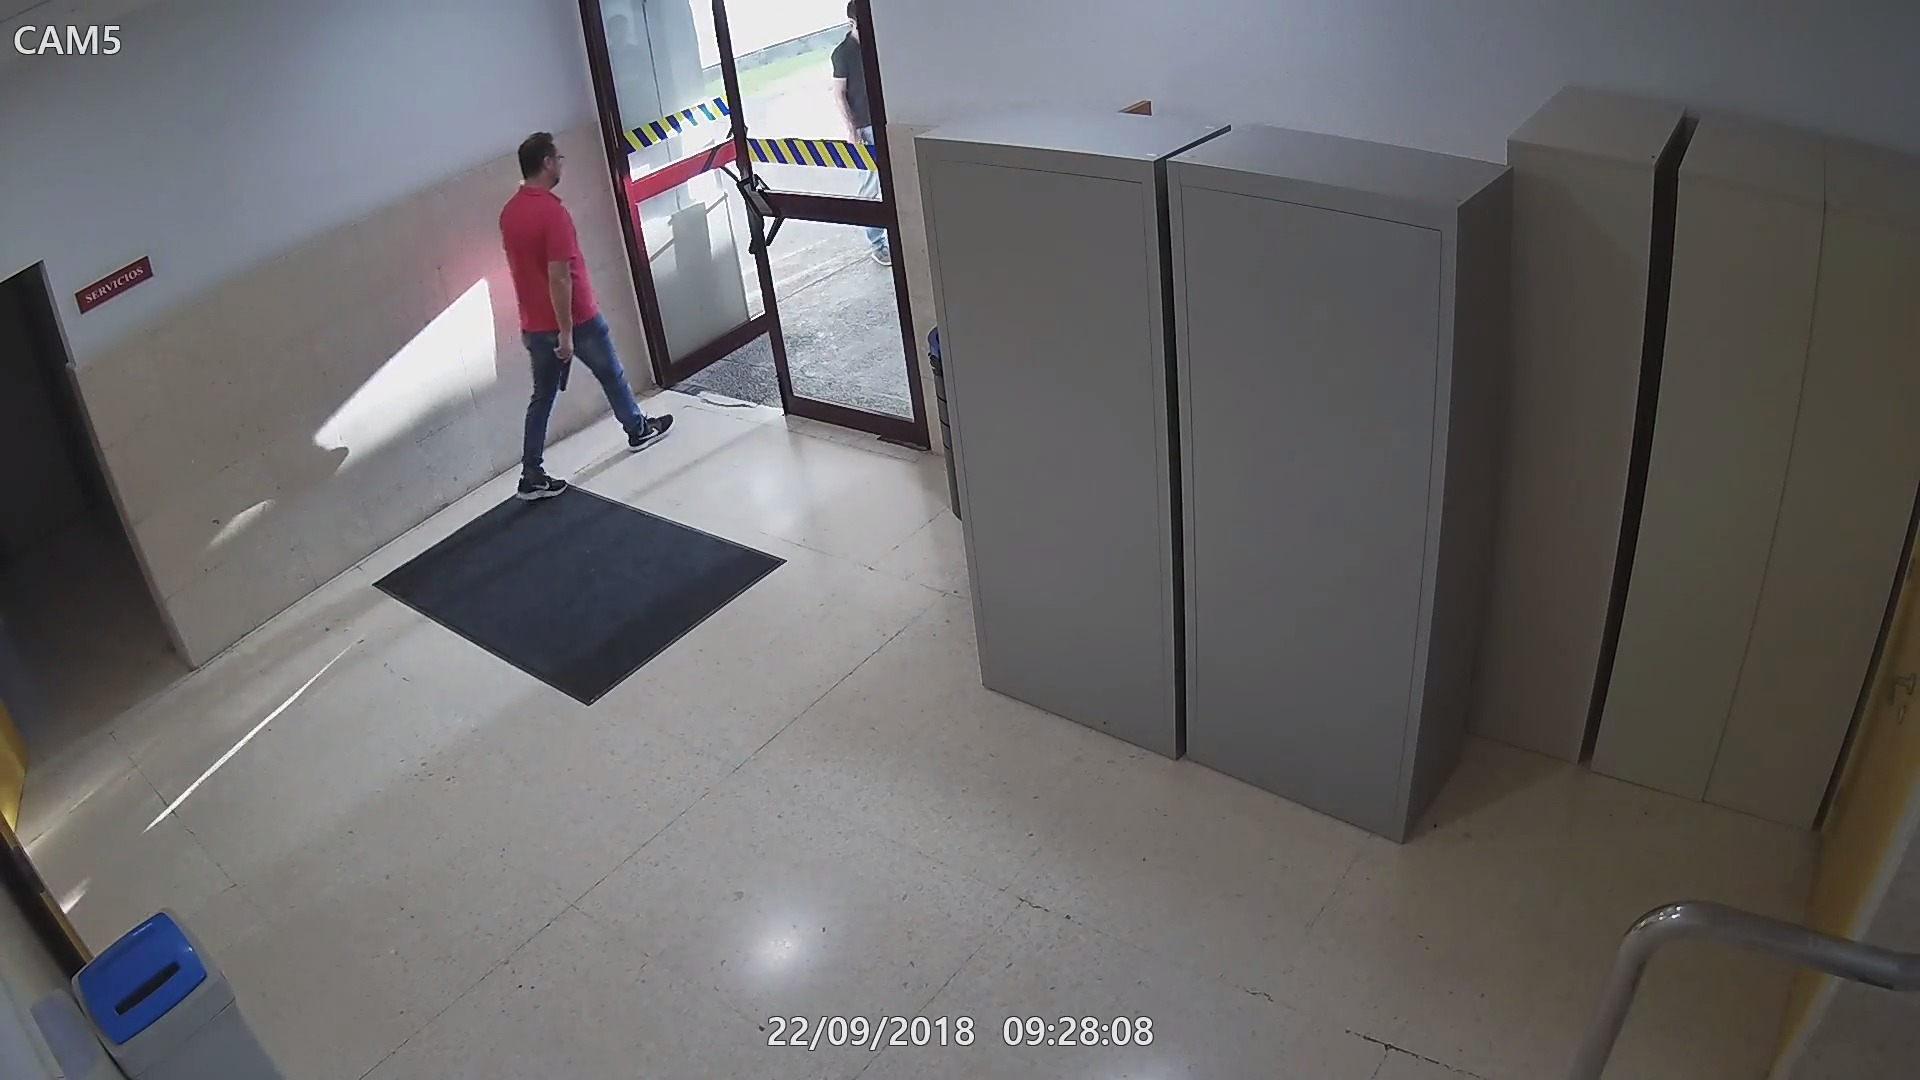Handgun: (553, 327, 579, 396)
